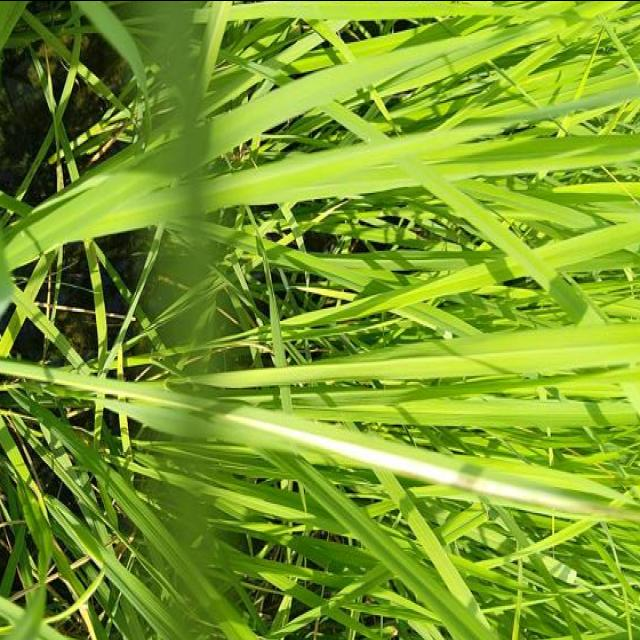Leaf Blight: (213, 405, 640, 523)
